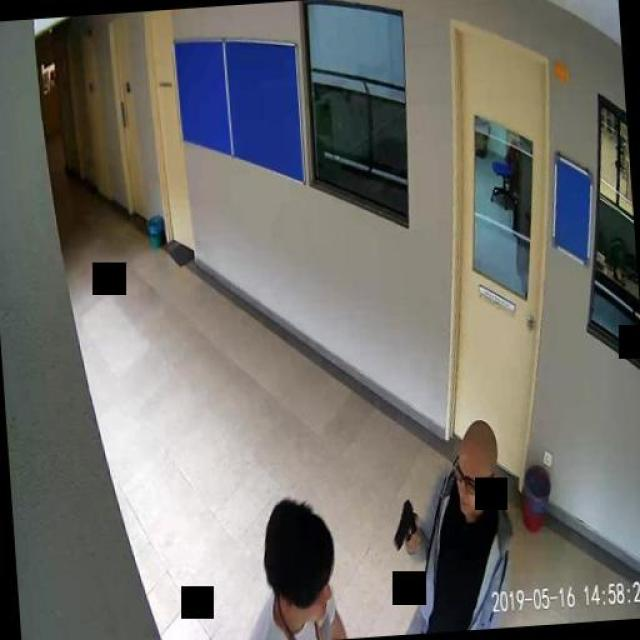gun: (389, 496, 419, 549)
